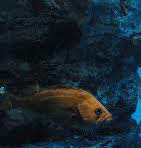mebaru: (2, 82, 109, 131)
